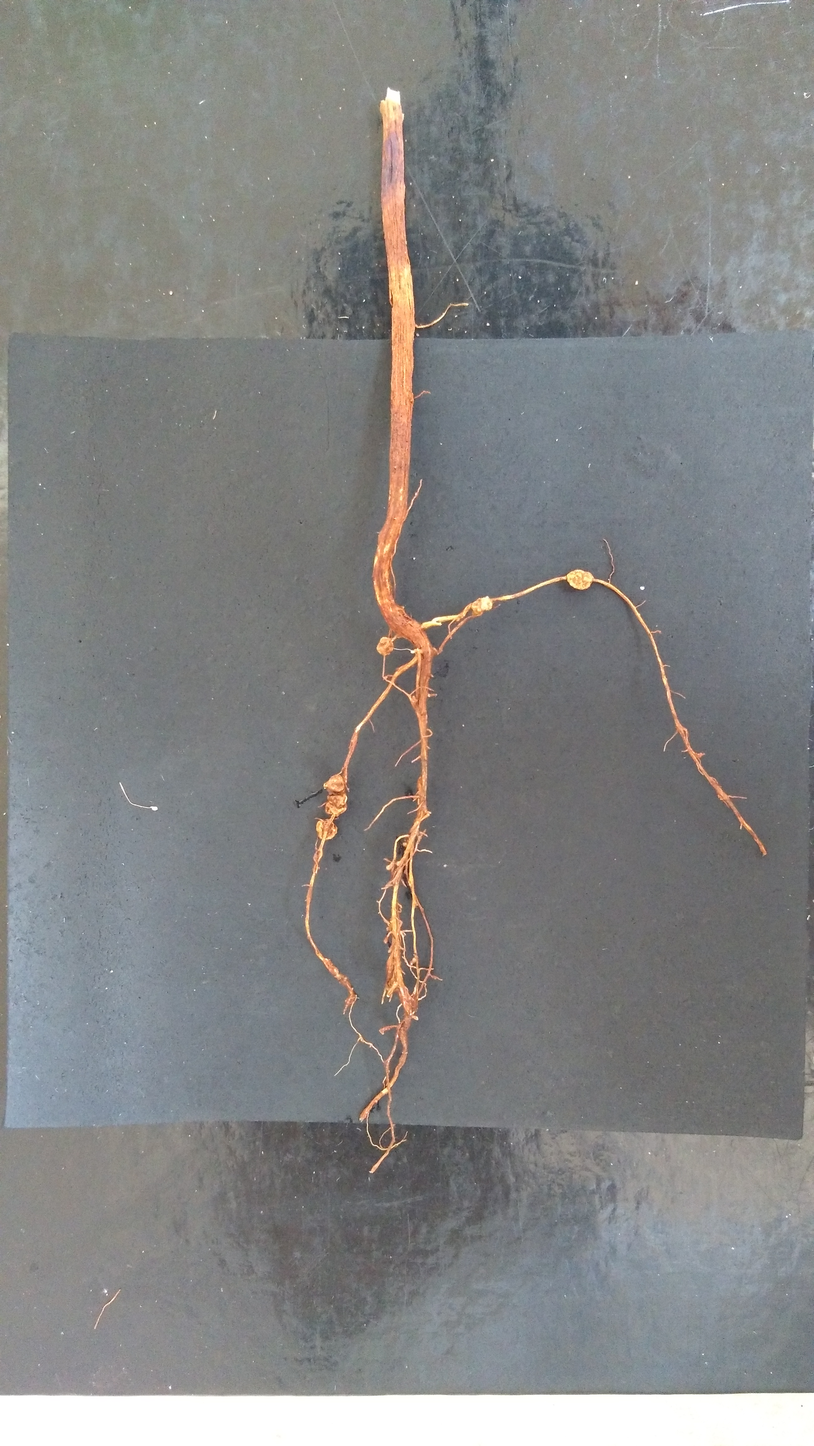nodule: (564, 568, 596, 593), (315, 818, 339, 842), (470, 594, 494, 617), (322, 772, 345, 793), (324, 799, 349, 817), (375, 635, 395, 657), (325, 793, 348, 807)
